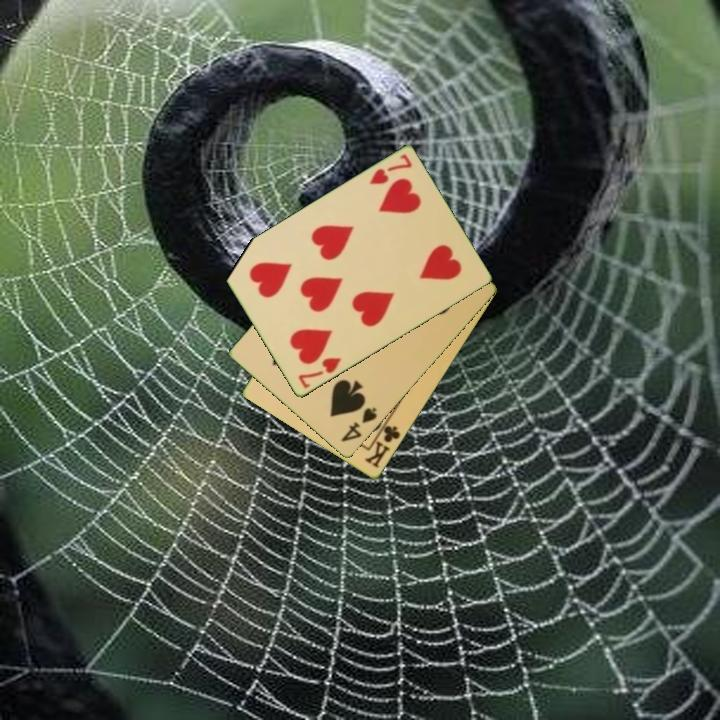4s: (337, 404, 380, 445)
7h: (295, 354, 344, 392), (366, 151, 415, 188)
Kc: (361, 416, 403, 471)
